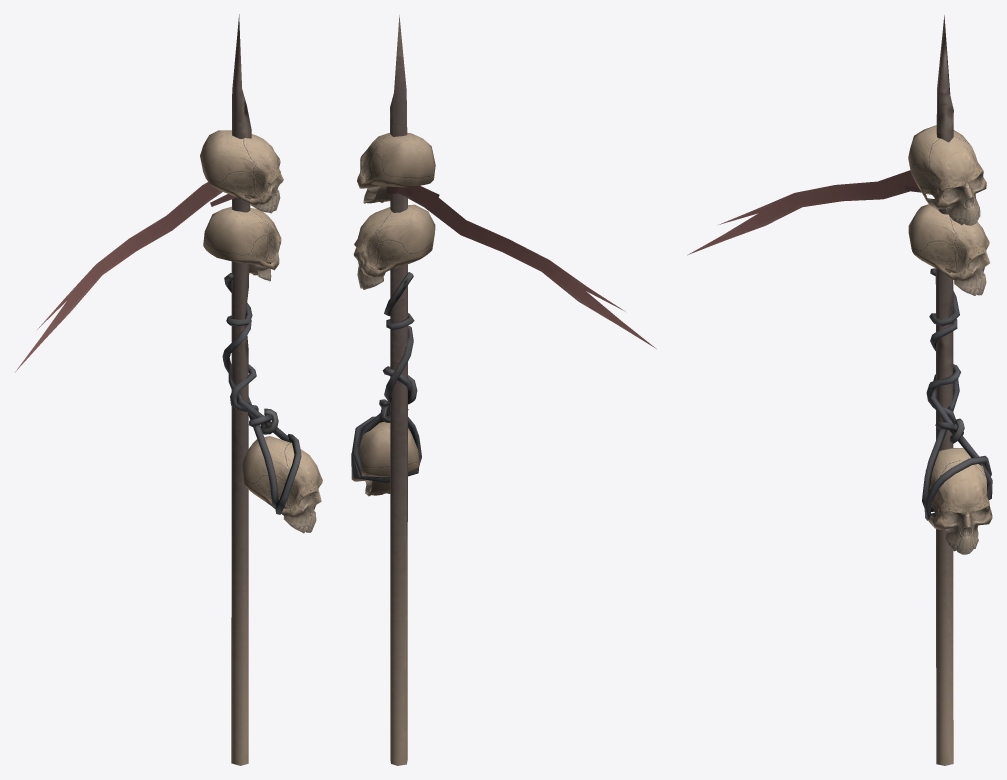
Rendered from creep_camp001h.fbx.
3 views of the same model, side by side, from view 1: azimuth 30°, elevation 25°; view 2: azimuth 150°, elevation 25°; view 3: azimuth 330°, elevation 25° (orthographic).
Visible parts, largest first — view 1: creep_camp001h; view 2: creep_camp001h; view 3: creep_camp001h.
Boxes of the visible parts, box(x1,y1,x2,y2) form: creep_camp001h: box(15, 14, 322, 765); creep_camp001h: box(351, 15, 656, 765); creep_camp001h: box(687, 15, 992, 765).
Size of the model in its own units: 148 by 347 by 44.17.
